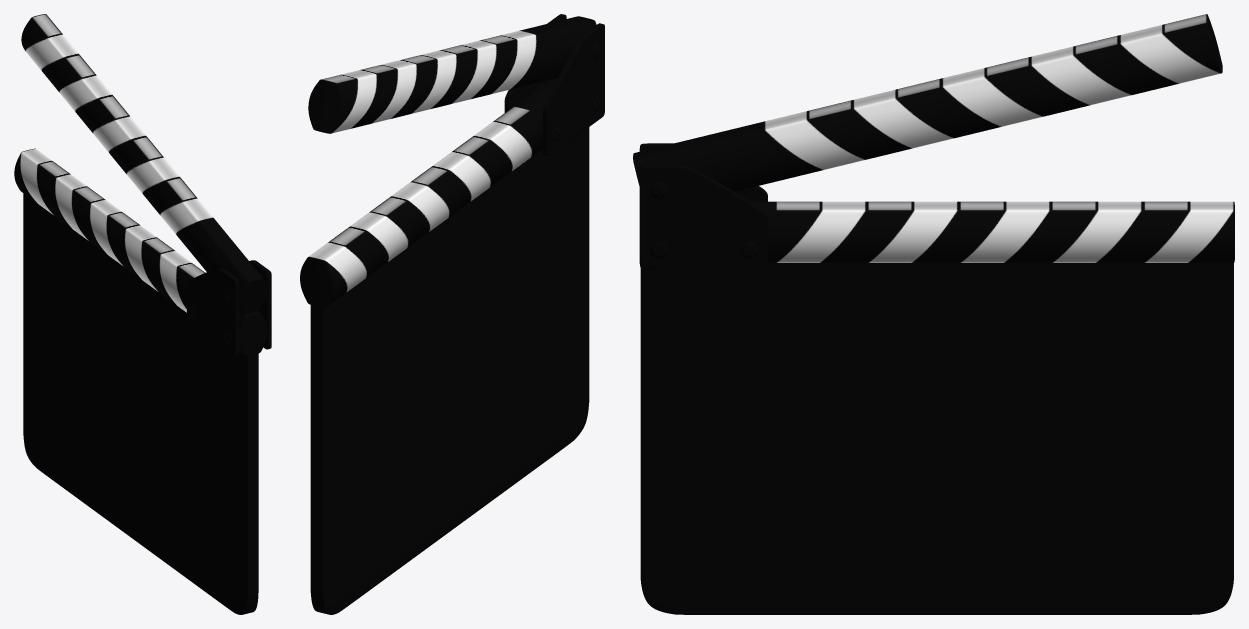
File: model_FilmClapperBoard.glb
The picture shows the model from 3 angles, left to right: view 1: azimuth 30°, elevation 25°; view 2: azimuth 150°, elevation 25°; view 3: azimuth 270°, elevation 25°; orthographic projection. The views are drawn at different scales.
Parts seen in each view (by area): view 1: Cube.002_0.001, Cube.001_0.001, Cube_0.001, Cube.004_0.001, Cube.003_0.001; view 2: Cube.002_0.001, Cube_0.001, Cube.001_0.001, Cube.004_0.001, Cube.003_0.001; view 3: Cube.002_1.001, Cube.001_0.001, Cube_0.001, Cube.003_0.001, Cube.002_0.001.
Part boxes in pixels (x1,y1,x2,y2): Cube.002_0.001: [23, 193, 258, 614]; Cube.001_0.001: [21, 14, 267, 314]; Cube_0.001: [14, 148, 267, 355]; Cube.004_0.001: [187, 268, 239, 357]; Cube.003_0.001: [249, 260, 271, 349]; Cube.002_0.001: [310, 127, 589, 614]; Cube_0.001: [300, 78, 557, 307]; Cube.001_0.001: [308, 16, 596, 133]; Cube.004_0.001: [543, 23, 604, 155]; Cube.003_0.001: [504, 14, 566, 112]; Cube.002_1.001: [646, 263, 1227, 609]; Cube.001_0.001: [633, 14, 1222, 191]; Cube_0.001: [751, 201, 1234, 262]; Cube.003_0.001: [639, 164, 767, 269]; Cube.002_0.001: [640, 263, 1233, 614].
Bounding box in the file's own units: 0.0426 × 0.4583 × 0.421.
4 materials, 1 textured.
